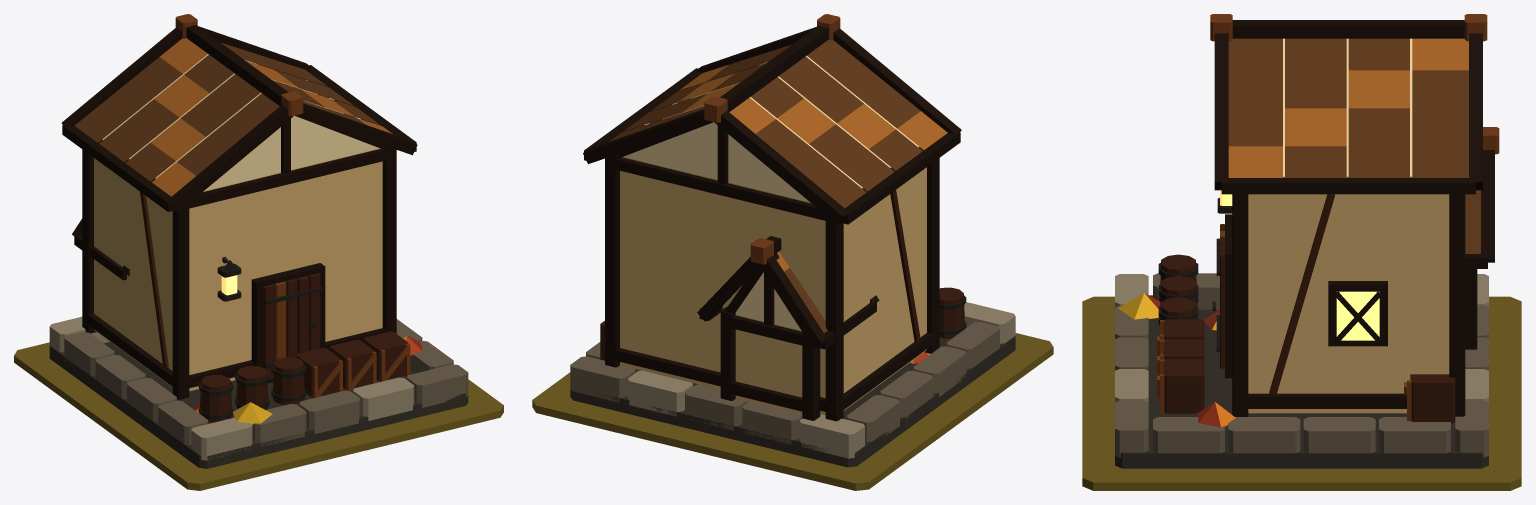
File: storehouse_t5.glb
3 renders of one model, left to right at view 1: azimuth 30°, elevation 25°; view 2: azimuth 150°, elevation 25°; view 3: azimuth 270°, elevation 25°, orthographic. The views are drawn at different scales.
Visible parts, largest first — view 1: MMR | storehouse | T05 Architecture.001, MMR | storehouse | Tier 05 Ground.001, MMR | storehouse | T05 Autumn Dressing.001; view 2: MMR | storehouse | T05 Architecture.001, MMR | storehouse | Tier 05 Ground.001; view 3: MMR | storehouse | T05 Architecture.001, MMR | storehouse | Tier 05 Ground.001, MMR | storehouse | T05 Autumn Dressing.001.
Boxes of the visible parts, x1,y1,x2,y2 form: MMR | storehouse | T05 Architecture.001: (49,14,468,468); MMR | storehouse | Tier 05 Ground.001: (14,342,503,490); MMR | storehouse | T05 Autumn Dressing.001: (194,335,422,424); MMR | storehouse | T05 Architecture.001: (570,14,1015,467); MMR | storehouse | Tier 05 Ground.001: (532,333,1053,490); MMR | storehouse | T05 Architecture.001: (1115,14,1499,468); MMR | storehouse | Tier 05 Ground.001: (1082,296,1521,490); MMR | storehouse | T05 Autumn Dressing.001: (1118,293,1235,427).
Size of the model in its own units: 2.35 by 2.24 by 2.35.
Materials: 2 (1 with a texture image).
